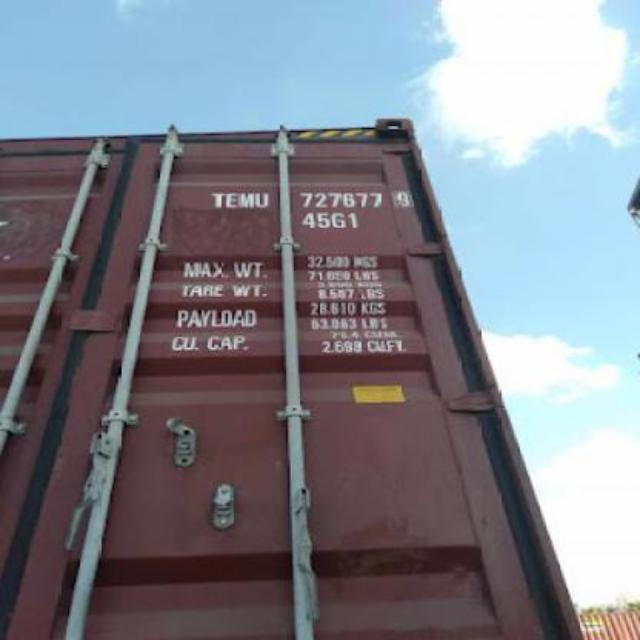2: (312, 188, 326, 210)
6: (342, 188, 358, 210)
7: (368, 187, 386, 211), (324, 188, 340, 210), (356, 187, 369, 210), (300, 184, 312, 206)
9: (391, 184, 412, 210)
E: (225, 188, 238, 206)
M: (238, 184, 254, 208)
T: (205, 188, 221, 208)
U: (256, 186, 270, 208)
